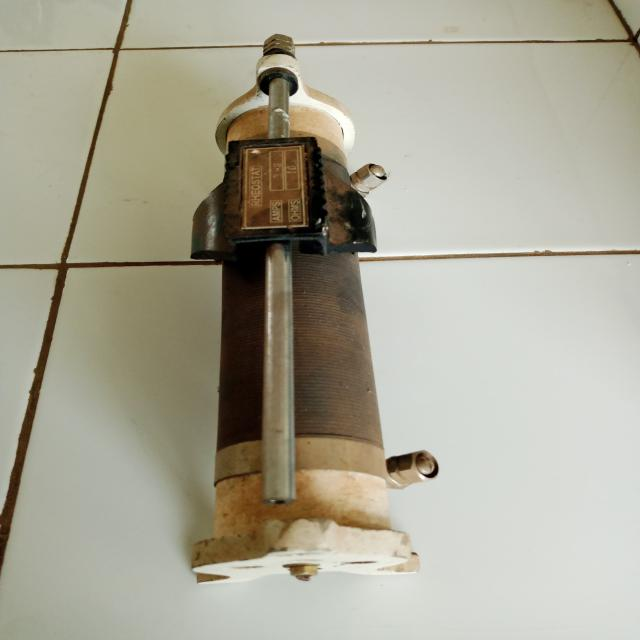Rheostat: (173, 15, 466, 595)
